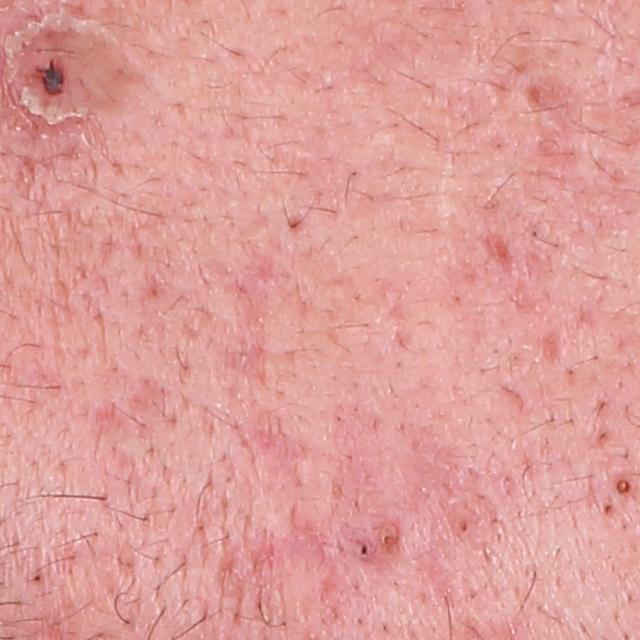atrophic_scar: (208, 269, 273, 387), (481, 225, 517, 279)
comedo: (611, 474, 637, 498), (380, 532, 399, 548), (459, 515, 473, 535), (356, 540, 371, 558)
